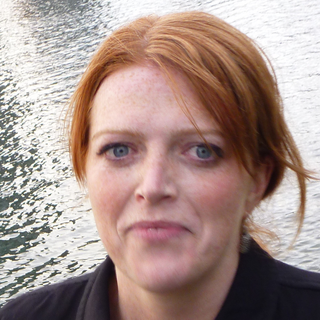eye: (96, 140, 143, 165), (177, 141, 225, 163)
